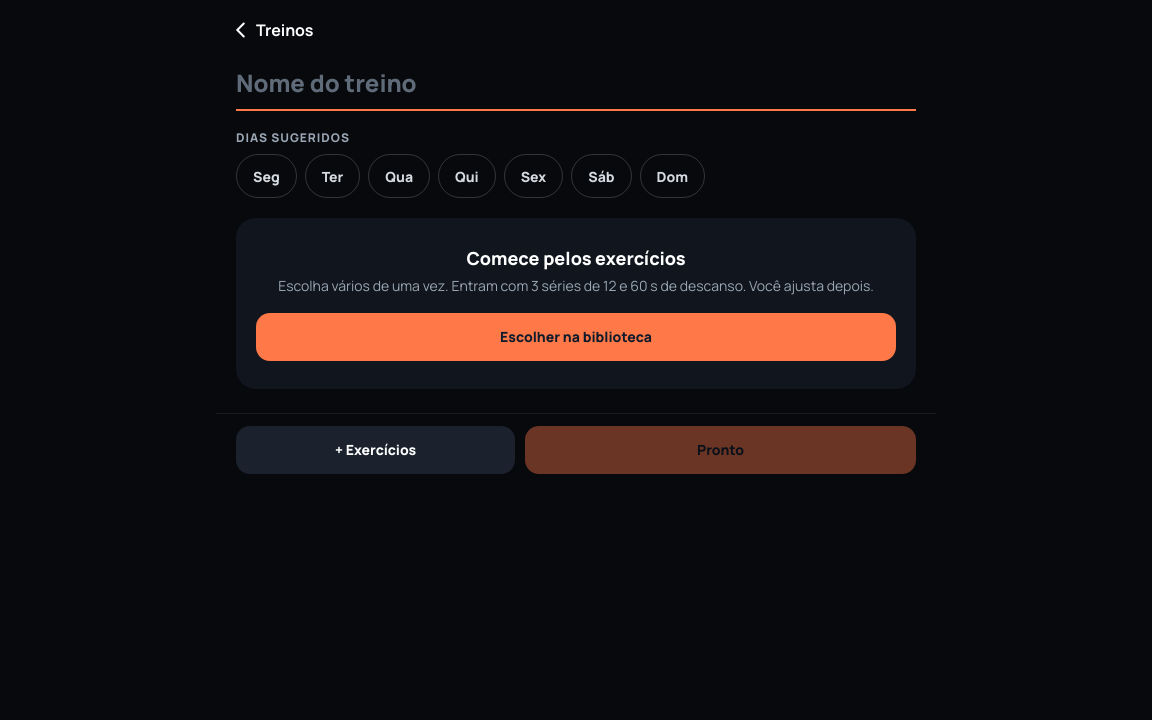
Test: WorkoutEditor (FIT-146) › treino novo não cria nada ao abrir; escolher vários na biblioteca cria o treino e adiciona com 3 × 12
Click the button "Escolher na biblioteca": [576, 337] box x1=256 y1=313 x2=896 y2=361
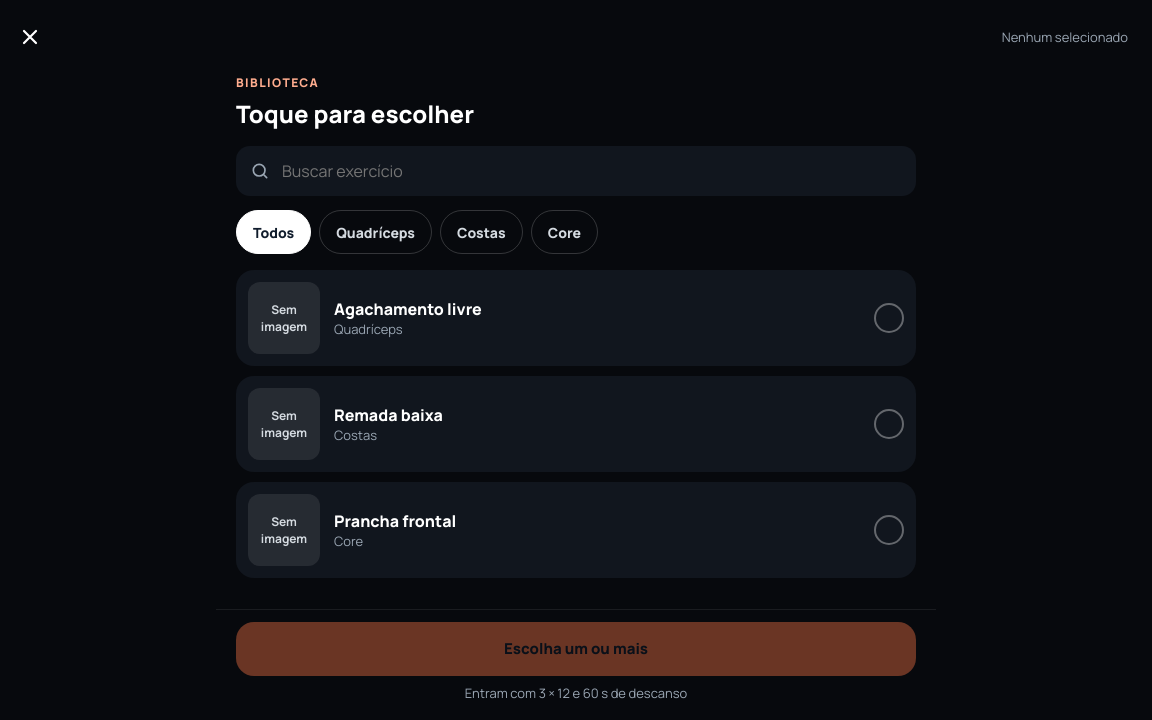
Click the button "Sem imagem Agachamento livre Quadríceps": [284, 318] box x1=236 y1=270 x2=916 y2=366
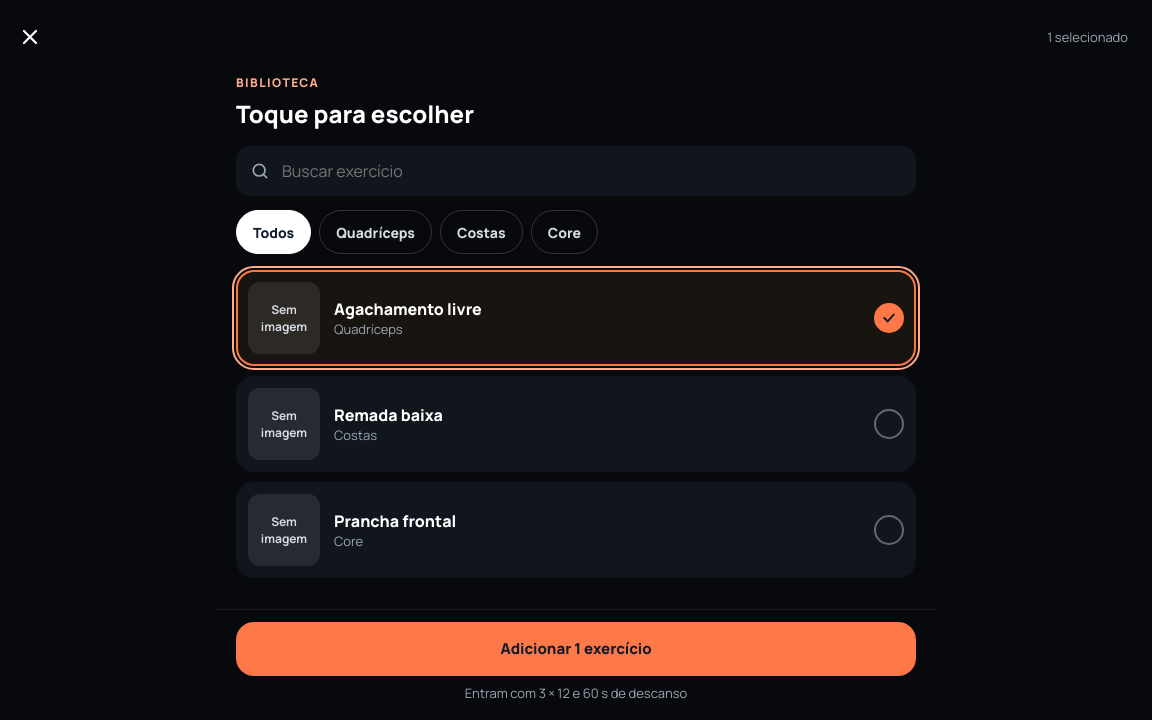
Click the button "Sem imagem Prancha frontal Core": [284, 530] box x1=236 y1=482 x2=916 y2=578
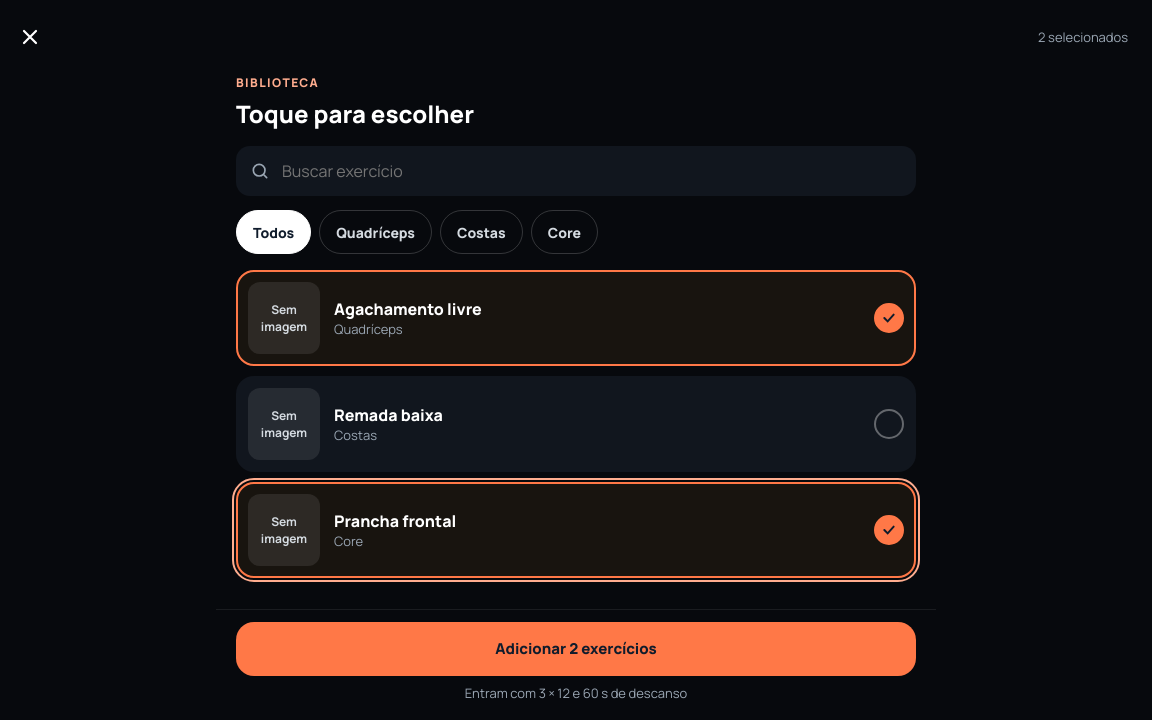
Click the button "Adicionar 2 exercícios": [576, 649] box x1=236 y1=622 x2=916 y2=676
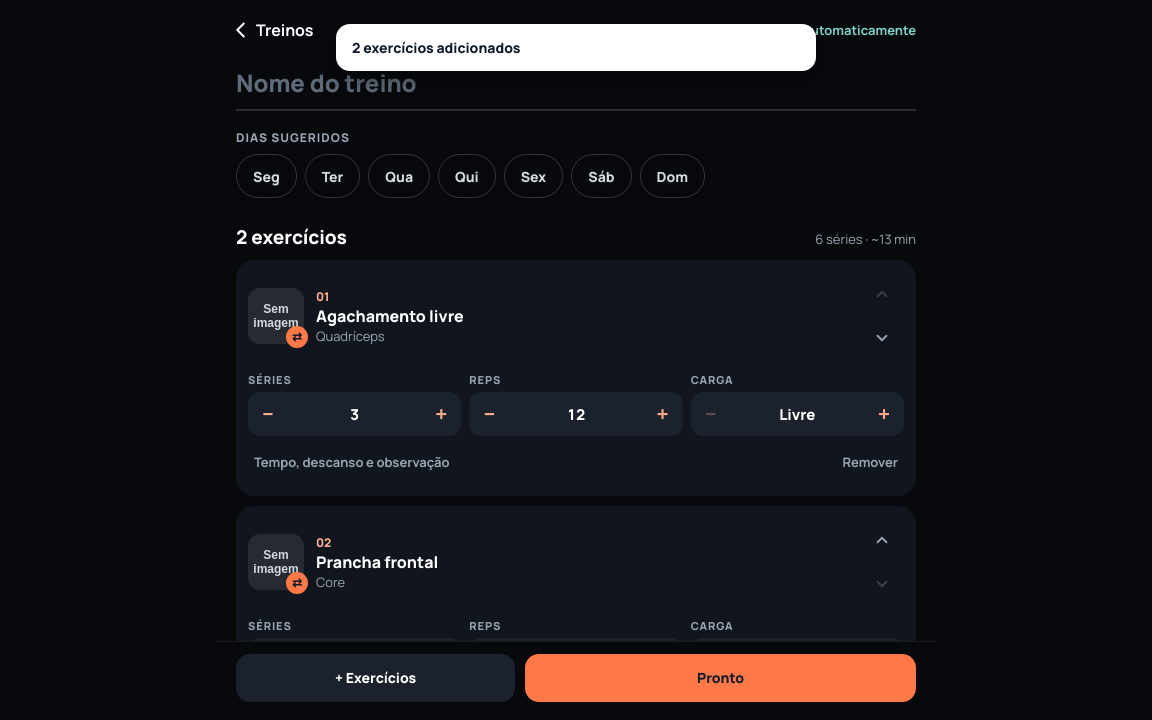
Expected: the dialog is gone
Expected: the heading "2 exercícios" is shown, x1=236 y1=224 x2=347 y2=250
